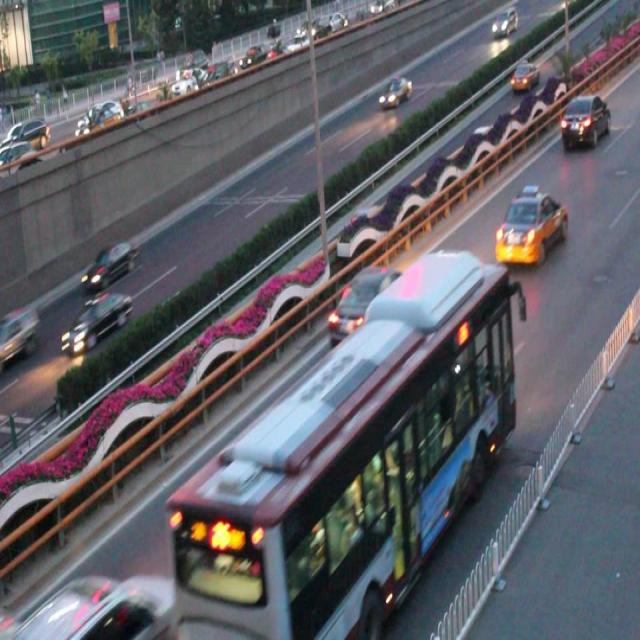car: (495, 185, 567, 268), (327, 268, 402, 338), (59, 292, 132, 356), (560, 93, 610, 149), (80, 241, 138, 289), (1, 302, 42, 366), (375, 74, 412, 111)
van: (164, 251, 515, 640)
